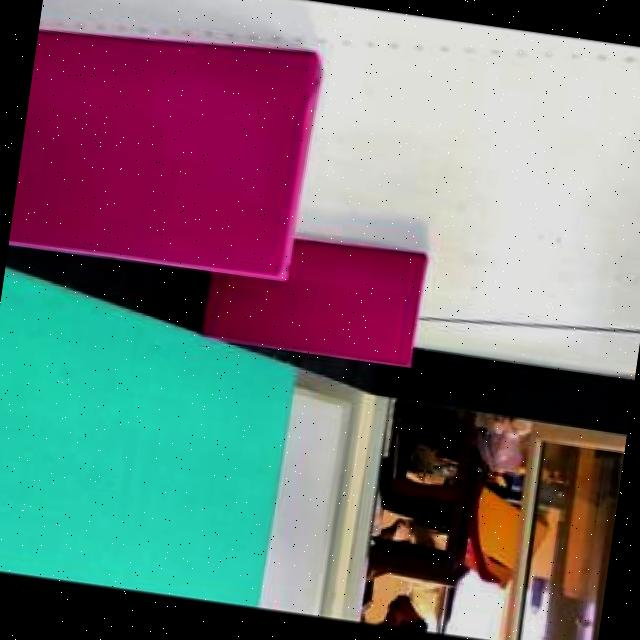xparking: (25, 23, 316, 276), (276, 236, 421, 363)
